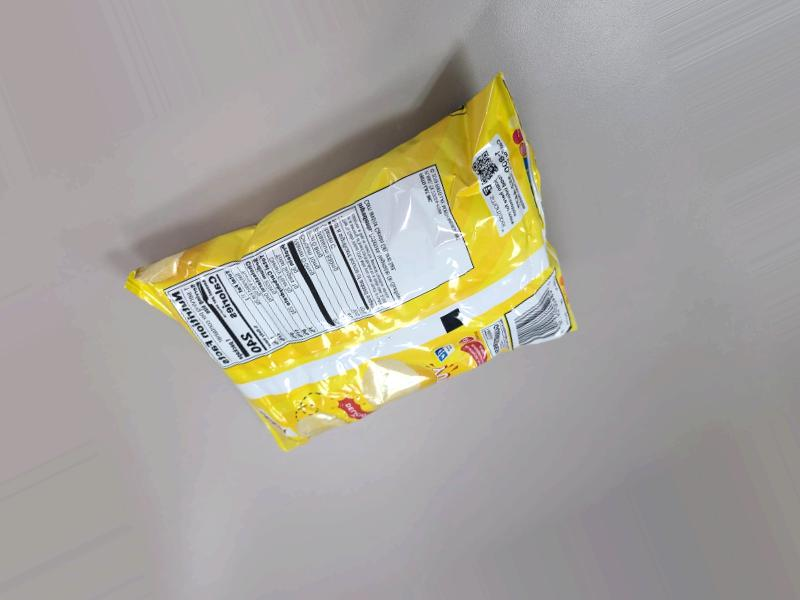lays: (176, 54, 535, 410)
